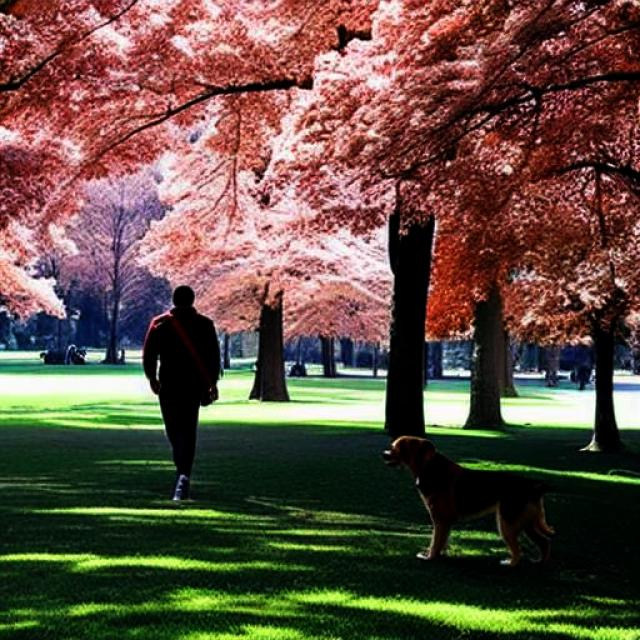Unleashed_Dog: (161, 398, 556, 570)
